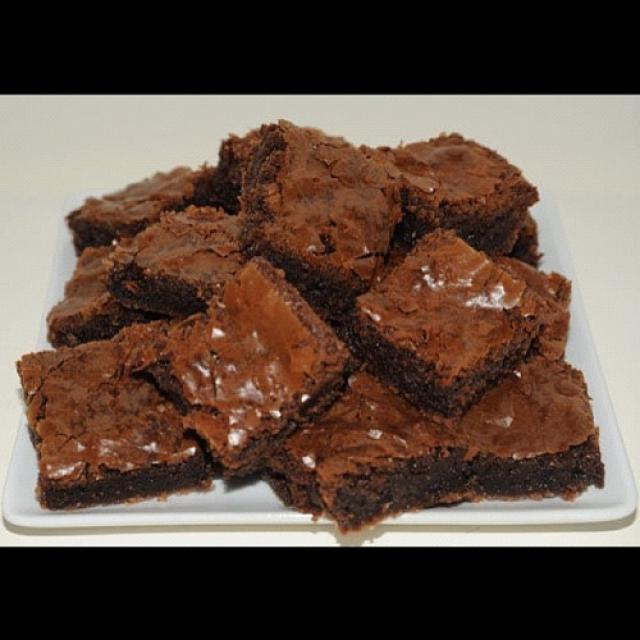蛋糕甜品: (12, 101, 631, 530)
